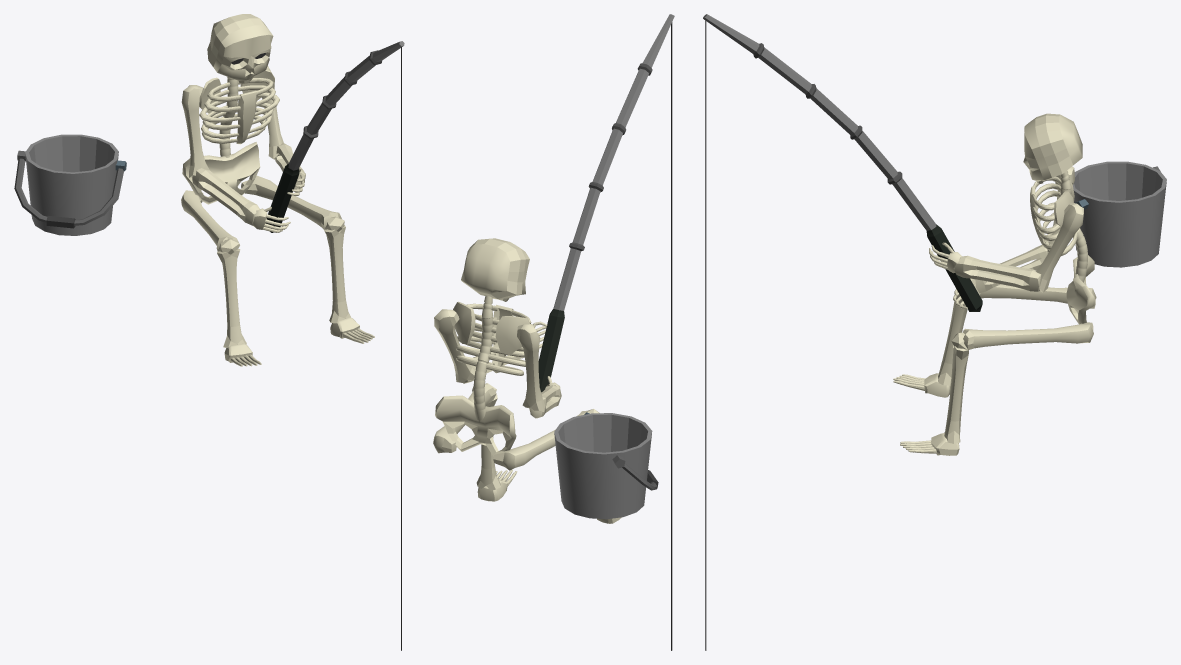
Rendered from Pescador1.fbx.
3 views of the same model, side by side, from view 1: azimuth 30°, elevation 25°; view 2: azimuth 150°, elevation 25°; view 3: azimuth 270°, elevation 25° (orthographic). The views are drawn at different scales.
Parts seen in each view (by area): view 1: Pescador1; view 2: Pescador1; view 3: Pescador1.
Part boxes in pixels (x1=…): Pescador1: x1=14, y1=14, x2=404, y2=650; Pescador1: x1=433, y1=14, x2=674, y2=650; Pescador1: x1=703, y1=14, x2=1166, y2=650.
Bounding box in the file's own units: 112 × 259 × 171.
